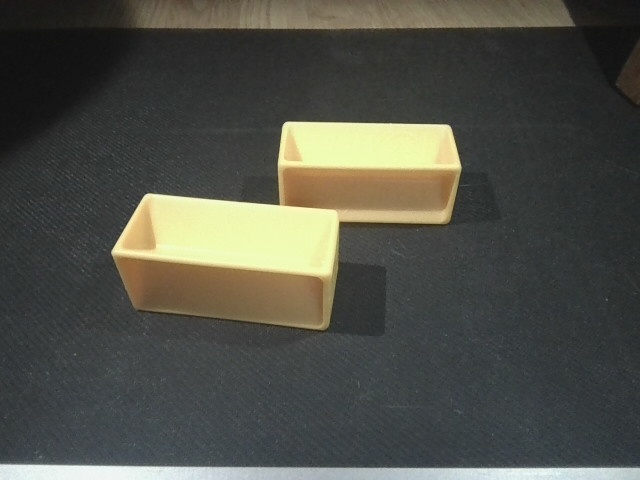YellowSample: (109, 190, 345, 335), (274, 117, 464, 231)
